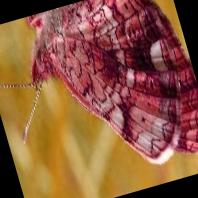butterfly: (33, 0, 198, 163)
